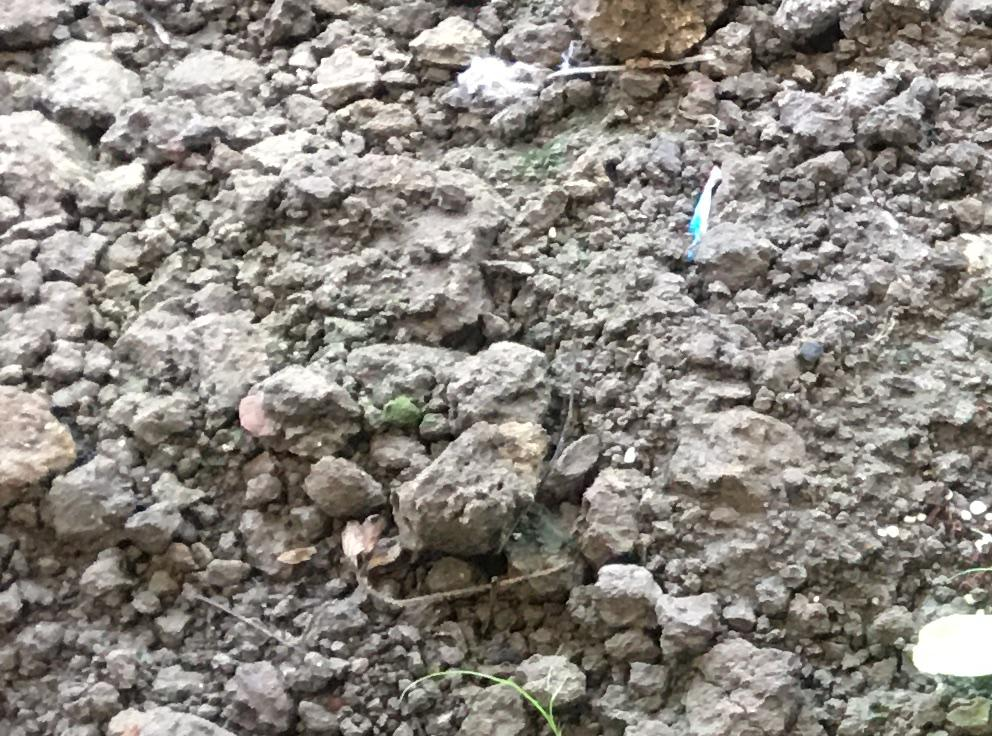block: (392, 419, 547, 566)
